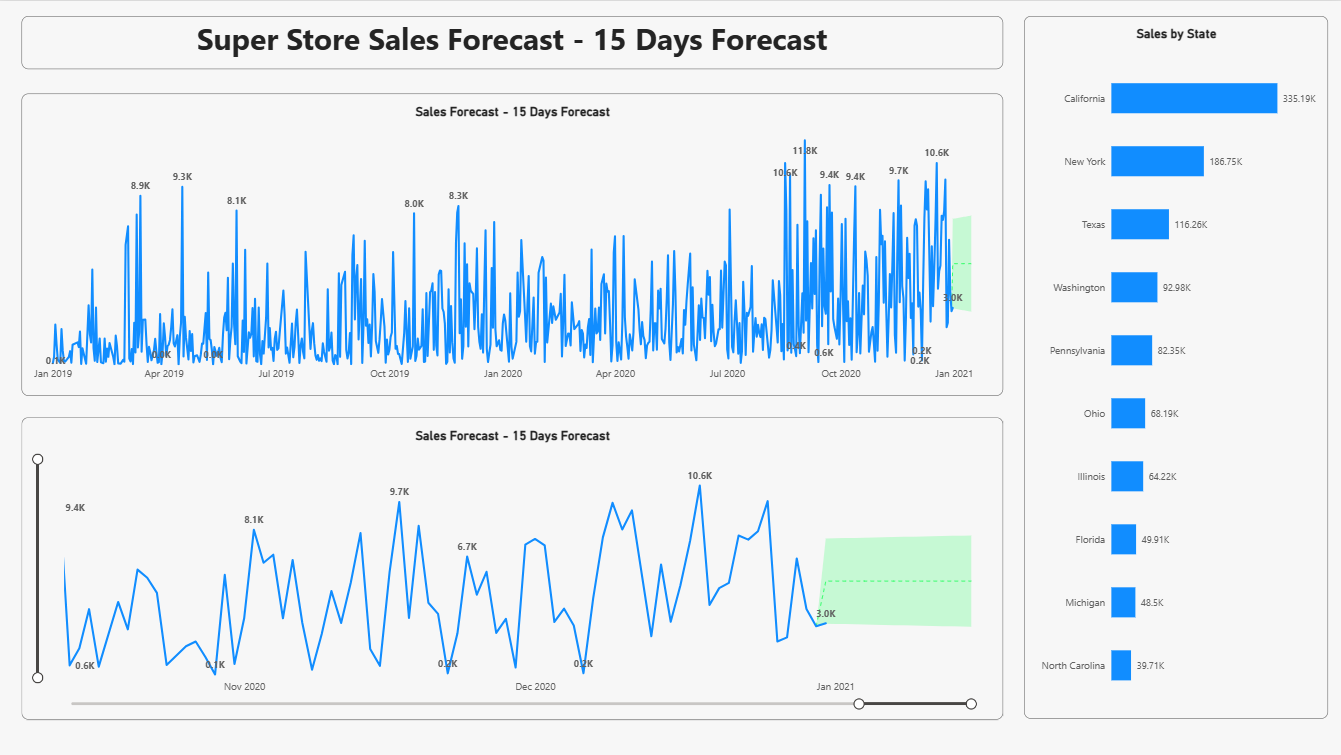

The page's visual inventory and layout, read from the dashboard file:
{"tool":"powerbi","page":{"name":"Sales Forecast","canvas":[1920,1080],"ordinal":1},"visuals":[{"type":"lineChart","title":"Sales Forecast - 15 Days Forecast","fields":{"Category":["SuperStore_Sales_Dataset (1).Order Date"],"Y":["Sum(SuperStore_Sales_Dataset (1).Sales)"]},"box":[32,132,1402,432],"z":0},{"type":"lineChart","title":"Sales Forecast - 15 Days Forecast","fields":{"Category":["SuperStore_Sales_Dataset (1).Order Date"],"Y":["Sum(SuperStore_Sales_Dataset (1).Sales)"]},"box":[32,594,1402,432],"z":2},{"type":"barChart","title":"Sales by State","fields":{"Category":["SuperStore_Sales_Dataset (1).State"],"Y":["Sum(SuperStore_Sales_Dataset (1).Sales)"]},"box":[1464,22,434,1004],"z":3},{"type":"textbox","box":[32,22,1402,76],"z":4}]}

Visuals, with their boxes in screenshot pixels (x1, y1, x2, y2), scaled from the page's 1920x1080 canvas onto the 1341x755 screenshot:
"Sales Forecast - 15 Days Forecast" lineChart: (22,92,1002,394)
"Sales Forecast - 15 Days Forecast" lineChart: (22,415,1002,717)
"Sales by State" barChart: (1023,15,1326,717)
textbox: (22,15,1002,69)
